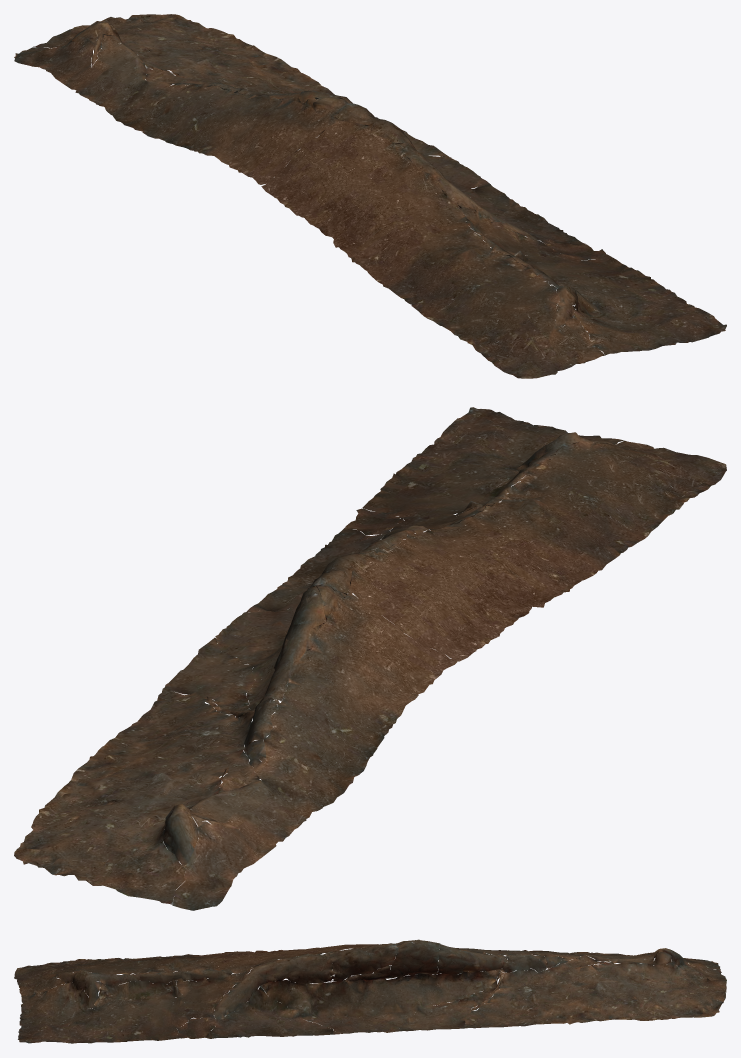
Rendered from single_root.glb.
3 views of the same model, one above another, from view 1: azimuth 30°, elevation 25°; view 2: azimuth 150°, elevation 25°; view 3: azimuth 270°, elevation 25° (orthographic). The views are drawn at different scales.
Visible parts, largest first — view 1: single_root; view 2: single_root; view 3: single_root.
Part boxes in pixels (x1,y1,x2,y2): single_root: (14,14,726,378); single_root: (14,407,726,910); single_root: (14,939,726,1043).
Size of the model in its own units: 0.5549 by 0.1782 by 1.84.
1 material, 1 textured.
